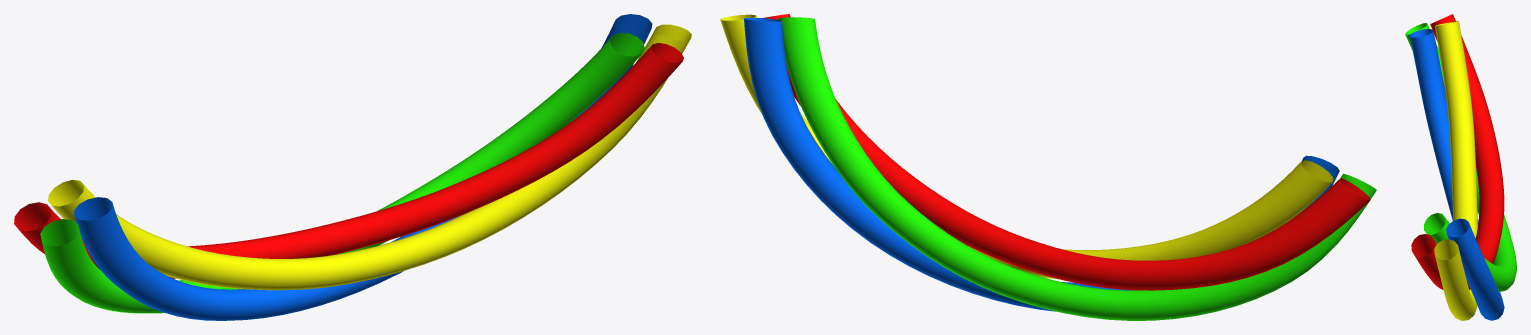
File: CABLES_4.FBX
3 views of the same model, side by side, from view 1: azimuth 30°, elevation 25°; view 2: azimuth 150°, elevation 25°; view 3: azimuth 270°, elevation 25° (orthographic). The views are drawn at different scales.
Visible parts, largest first — view 1: Cable003; view 2: Cable003; view 3: Cable003.
Boxes of the visible parts, x1,y1,x2,y2 form: Cable003: [14, 14, 691, 320]; Cable003: [720, 14, 1376, 320]; Cable003: [1405, 14, 1516, 320].
Bounding box in the file's own units: 743 × 233 × 133.
1 material, 1 textured.
